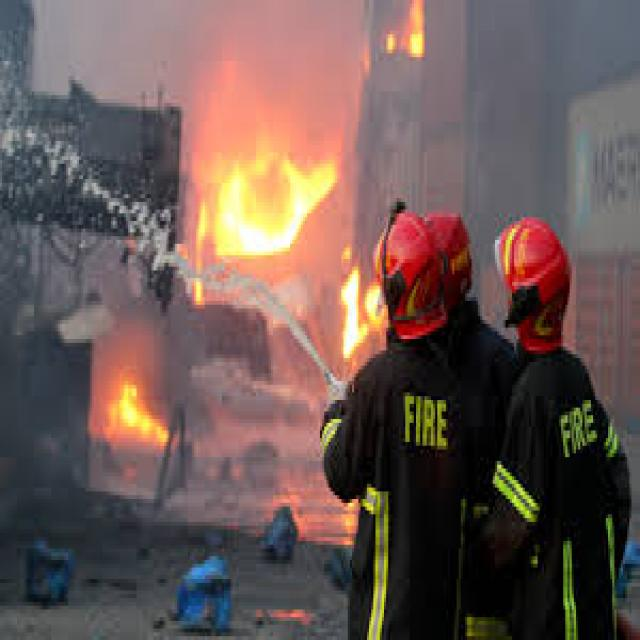fire: (188, 130, 337, 316), (108, 381, 170, 453), (341, 263, 384, 358), (378, 4, 431, 61)
